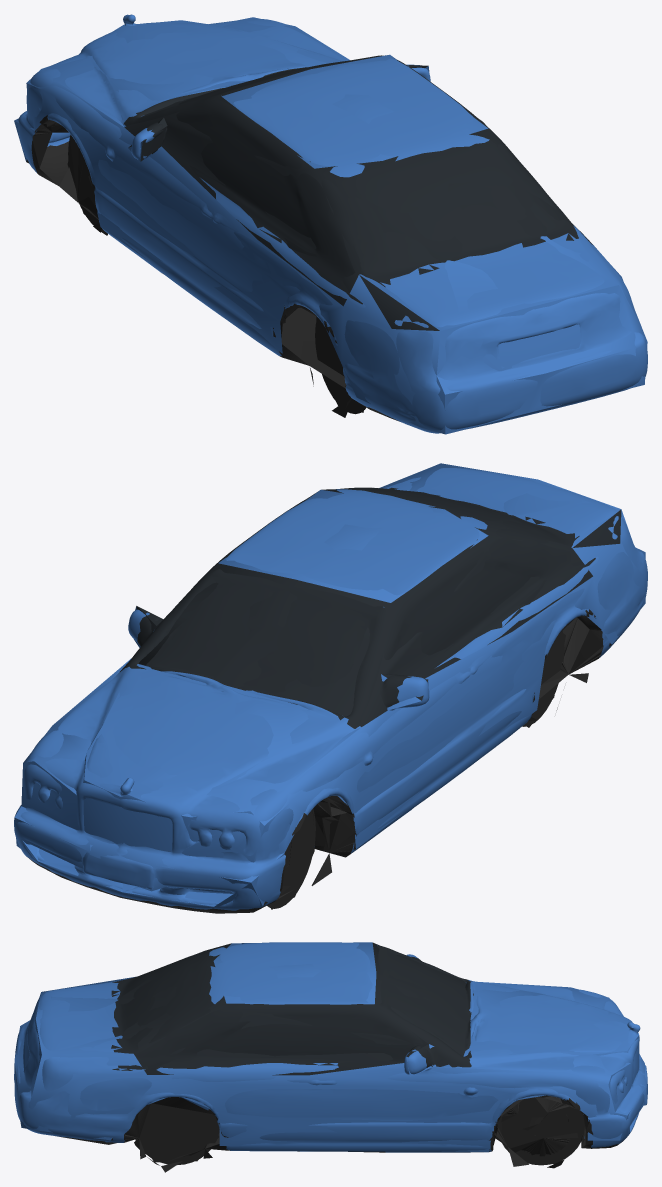
Rendered from bentley-brooklands.glb.
3 views of the same model, one above another, from view 1: azimuth 30°, elevation 25°; view 2: azimuth 150°, elevation 25°; view 3: azimuth 270°, elevation 25° (orthographic). The views are drawn at different scales.
Visible parts, largest first — view 1: body, far; view 2: body, far; view 3: body, far.
Boxes of the visible parts, x1,y1,x2,y2 form: body: (18, 14, 647, 433); far: (14, 17, 647, 434); body: (14, 468, 647, 913); far: (14, 463, 645, 909); body: (14, 942, 647, 1168); far: (14, 942, 646, 1172).
Bounding box in the file's own units: 2.19 × 1.56 × 5.47.
